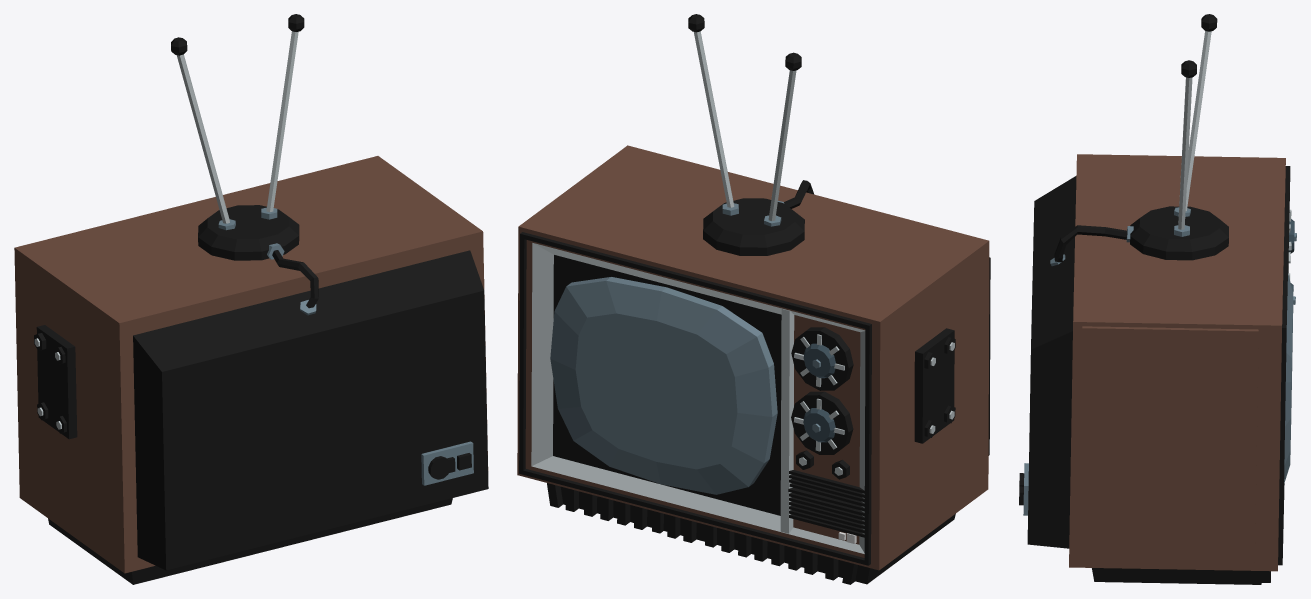
The picture shows the model from 3 angles, left to right: view 1: azimuth 30°, elevation 25°; view 2: azimuth 150°, elevation 25°; view 3: azimuth 270°, elevation 25°; orthographic projection. The views are drawn at different scales.
Parts seen in each view (by area): view 1: TV; view 2: TV; view 3: TV.
Part boxes in pixels (x1,y1,x2,y2): TV: [14, 14, 488, 584]; TV: [517, 14, 990, 584]; TV: [1019, 14, 1296, 584].
Size of the model in its own units: 78.52 by 94.87 by 50.25.
